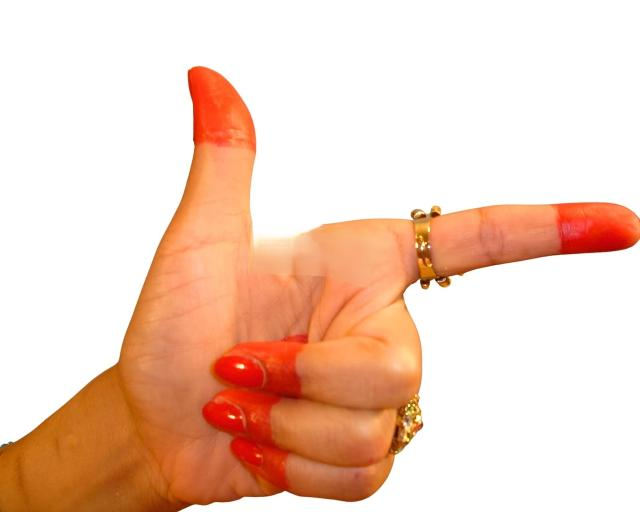chandrakala: (0, 69, 640, 512)
